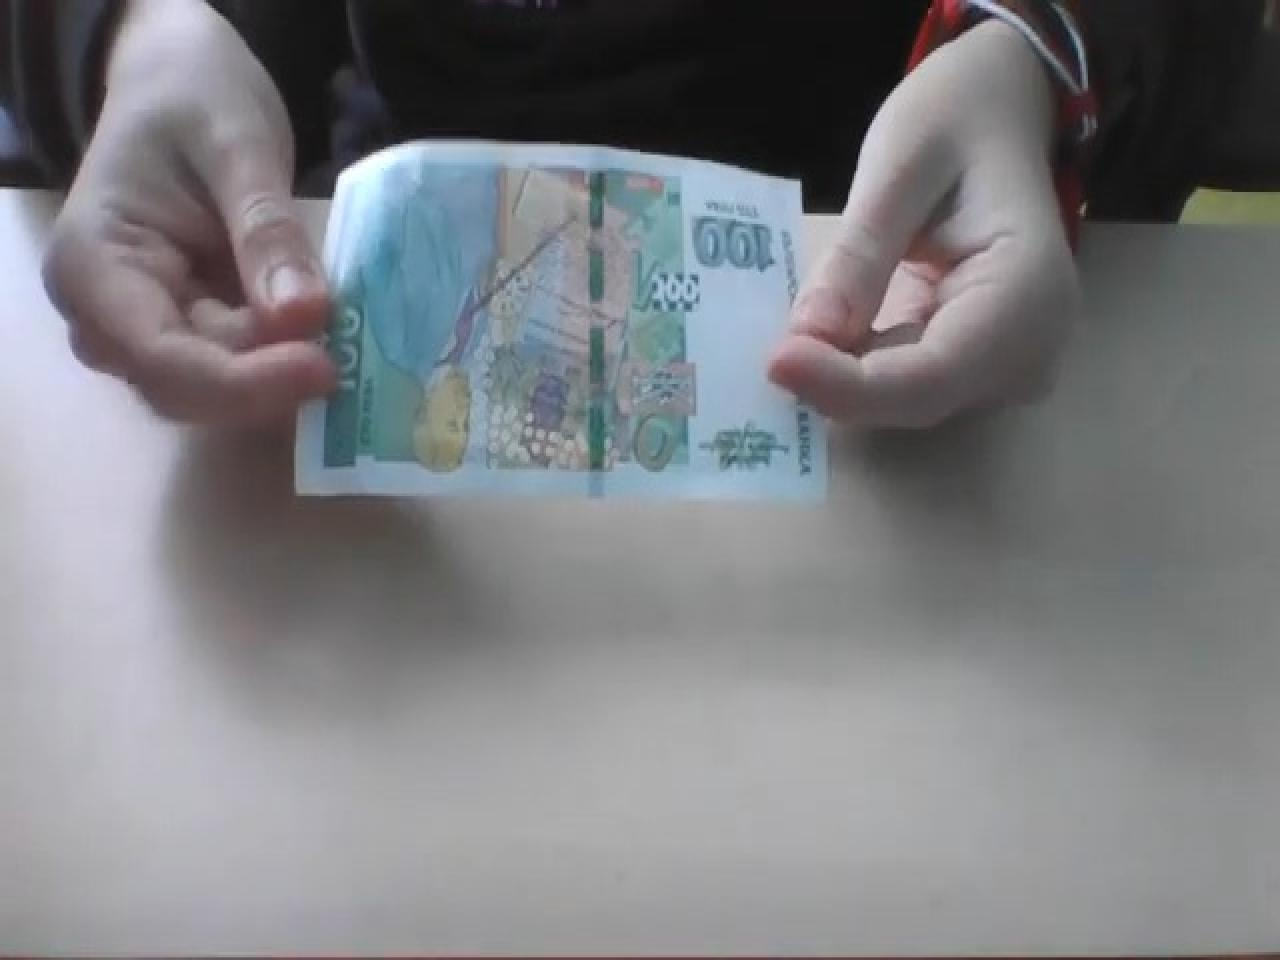100leva: (292, 133, 830, 507), (690, 211, 778, 274)
